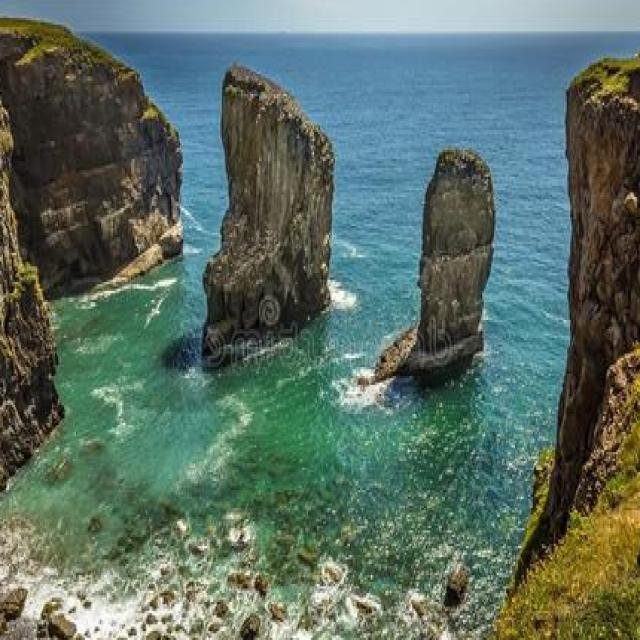reef: (197, 57, 346, 374), (375, 139, 507, 387)
